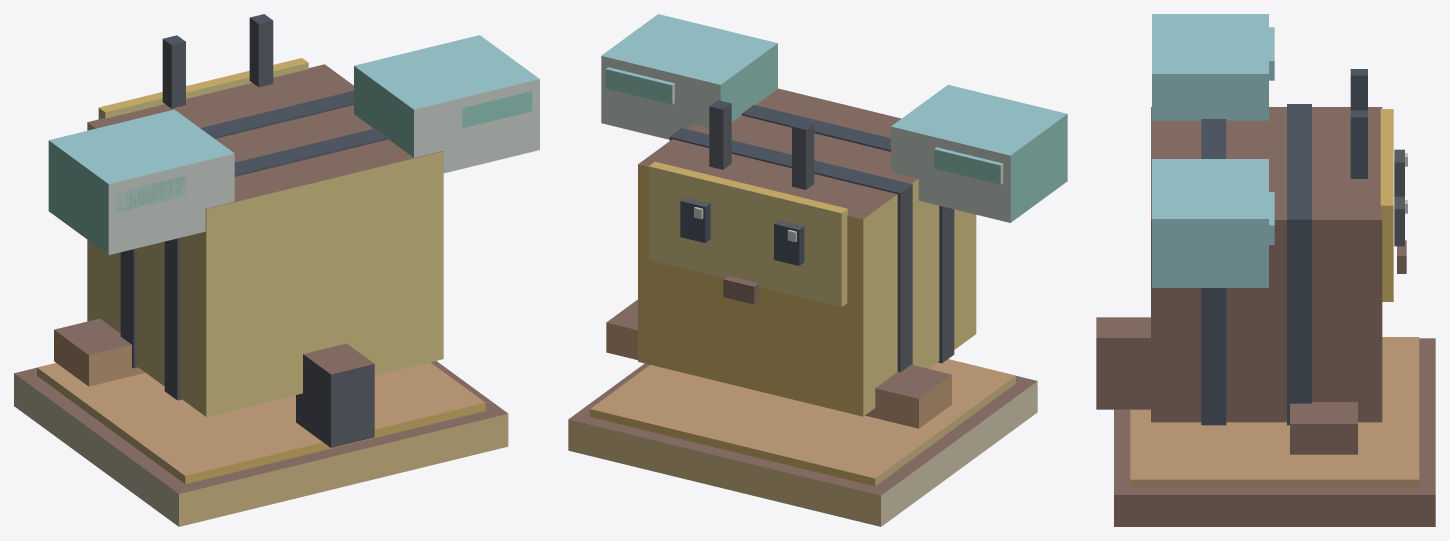
Rendered from honeybee_buddy.glb.
3 renders of one model, left to right at view 1: azimuth 30°, elevation 25°; view 2: azimuth 150°, elevation 25°; view 3: azimuth 270°, elevation 25°, orthographic. The views are drawn at different scales.
Visible parts, largest first — view 1: body; view 2: body; view 3: body.
Part boxes in pixels (left/top/right/bottom): body: left=14, top=14, right=539, bottom=526; body: left=568, top=14, right=1067, bottom=526; body: left=1096, top=14, right=1435, bottom=526.
Bounding box in the file's own units: 8.9 × 7.2 × 6.23.
